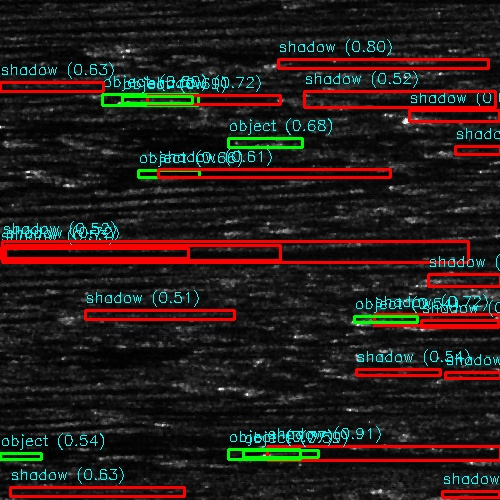rock: (444, 278, 497, 303), (271, 94, 376, 103), (391, 493, 474, 500), (124, 171, 187, 176), (462, 455, 500, 462)
shadow: (0, 240, 372, 263), (0, 394, 186, 411), (324, 94, 466, 103), (0, 486, 103, 495), (471, 278, 500, 303), (433, 493, 500, 500), (156, 171, 227, 176)
